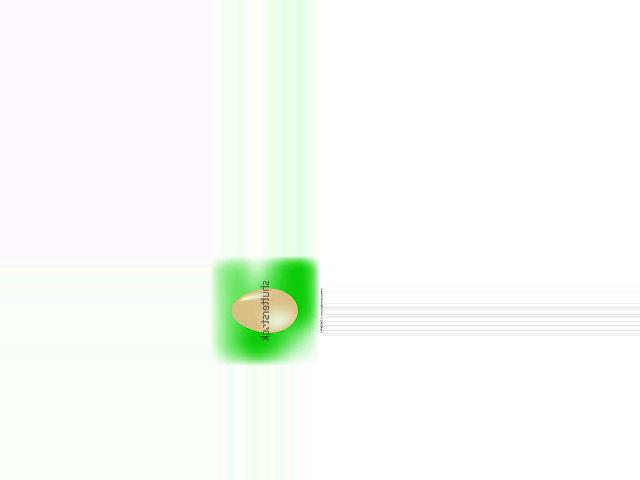egg: (231, 289, 297, 333)
